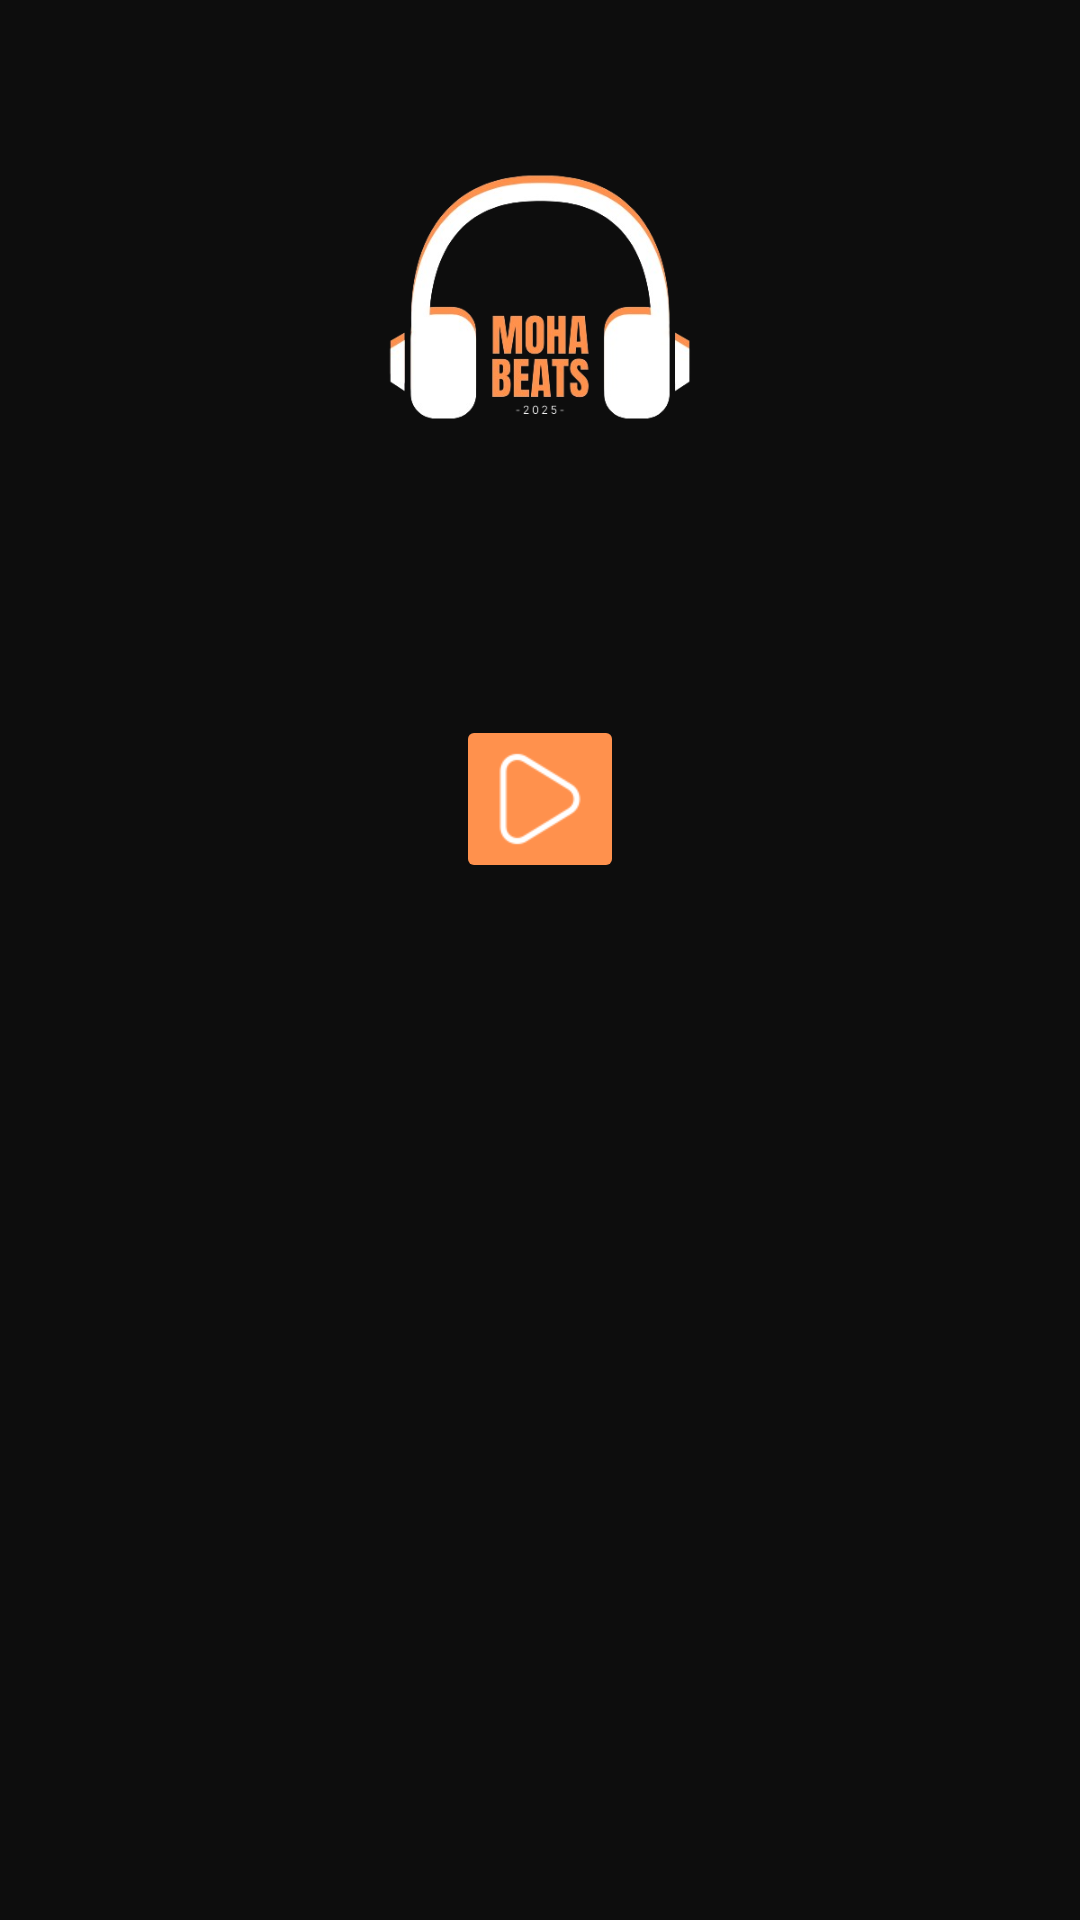

Icons on this 1080 × 1920 Android screen, each with its box as (x1, y1, x2, y2):
reproducir: (468, 733, 612, 865)
